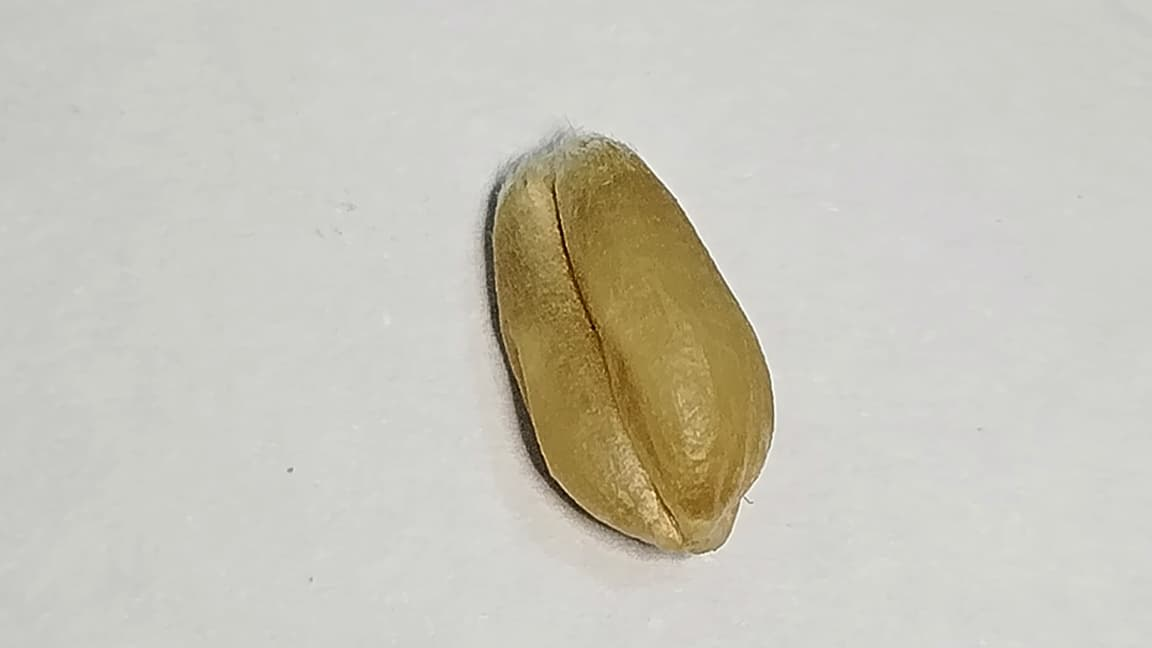healthy: (491, 136, 773, 552)
